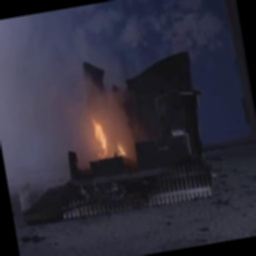fire: (74, 96, 129, 167)
smoke: (0, 11, 80, 127)
